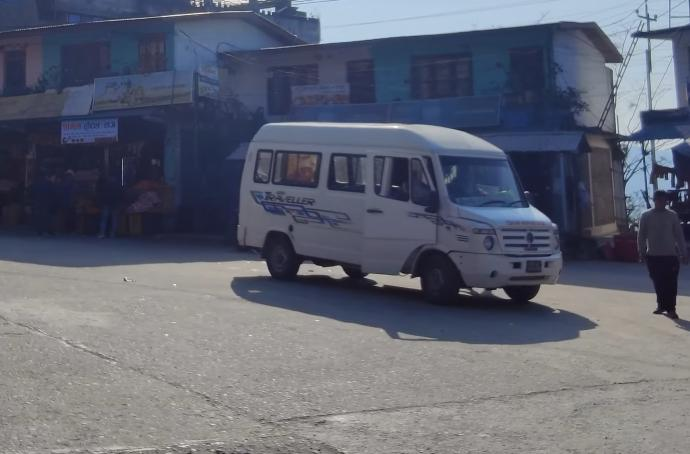micro_bus: (233, 113, 567, 312)
